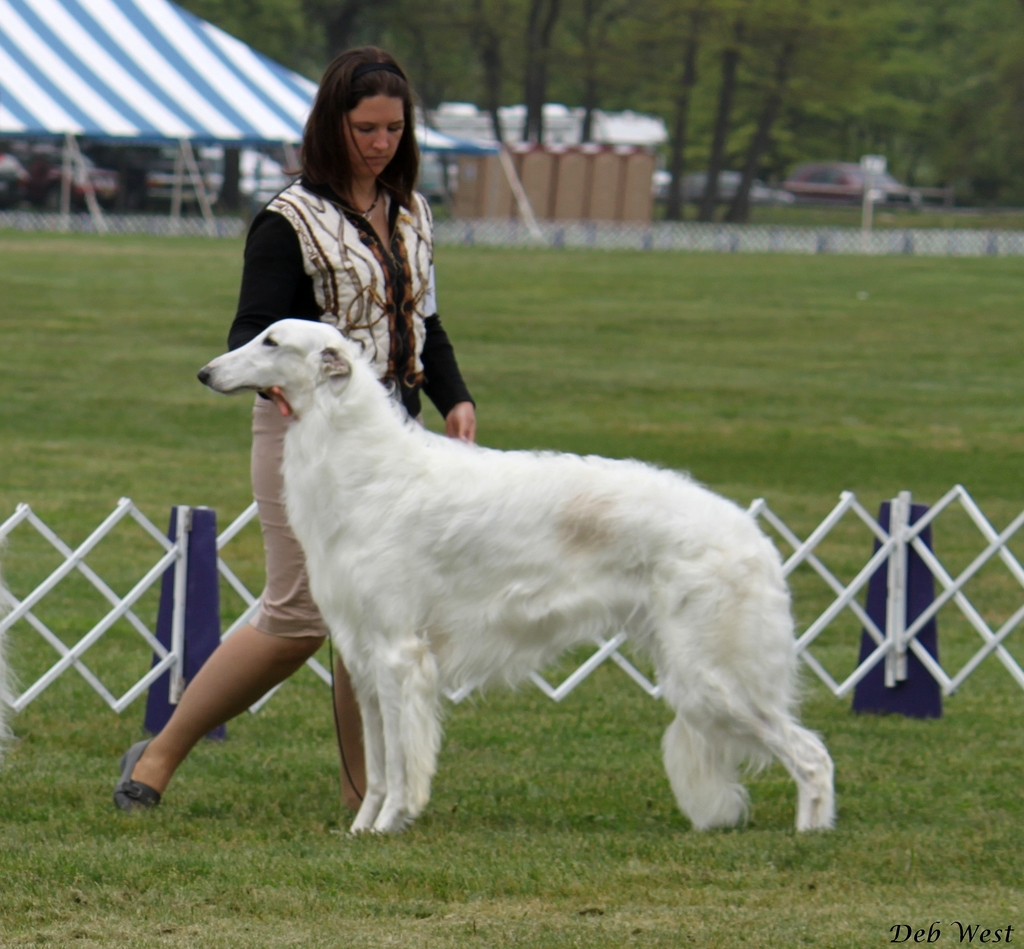Person: (112, 44, 477, 815)
